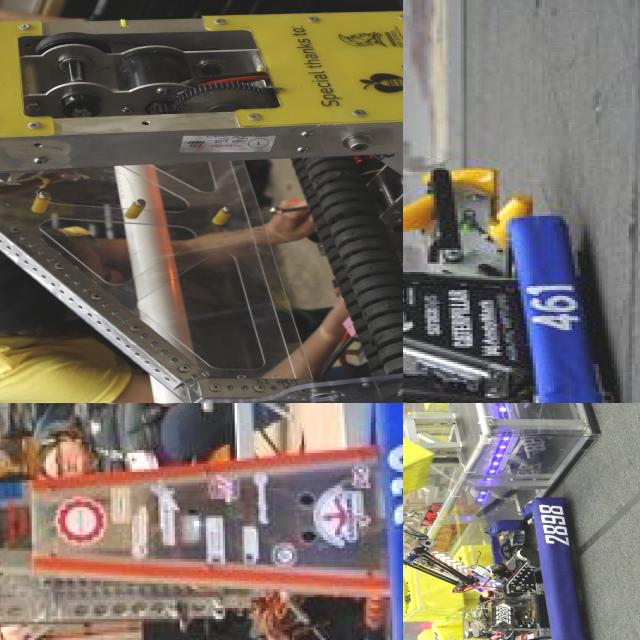FRC-Robots: (0, 0, 403, 403), (0, 403, 403, 640), (403, 165, 607, 403), (403, 476, 597, 640)
